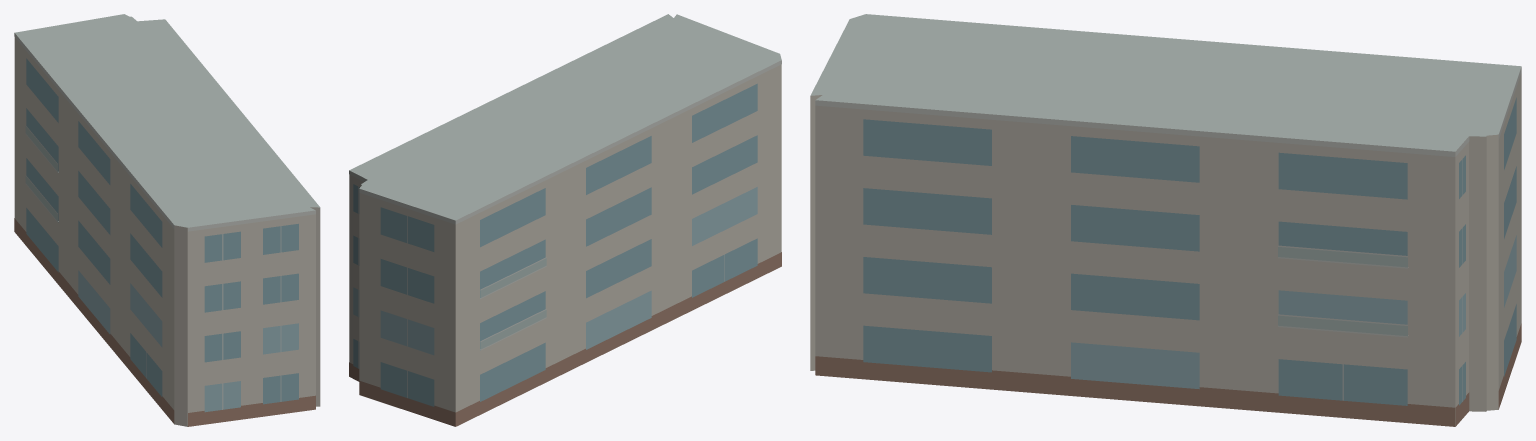
The model's file is survey-upis-32985643.glb.
The picture shows the model from 3 angles, left to right: view 1: azimuth 30°, elevation 25°; view 2: azimuth 150°, elevation 25°; view 3: azimuth 270°, elevation 25°; orthographic projection. The views are drawn at different scales.
Parts seen in each view (by area): view 1: survey-upis-32985643.tmp; view 2: survey-upis-32985643.tmp; view 3: survey-upis-32985643.tmp.
Boxes of the visible parts, x1,y1,x2,y2 form: survey-upis-32985643.tmp: (14, 14, 320, 426); survey-upis-32985643.tmp: (349, 14, 781, 426); survey-upis-32985643.tmp: (810, 14, 1521, 426).
Bounding box in the file's own units: 13.32 × 12.4 × 29.06.
